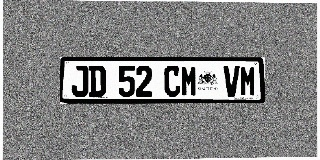2: (136, 66, 152, 97)
5: (119, 66, 135, 97)
C: (164, 66, 180, 97)
D: (89, 65, 105, 97)
J: (71, 65, 88, 97)
M: (181, 66, 197, 97), (240, 66, 256, 96)
V: (224, 66, 240, 97)
